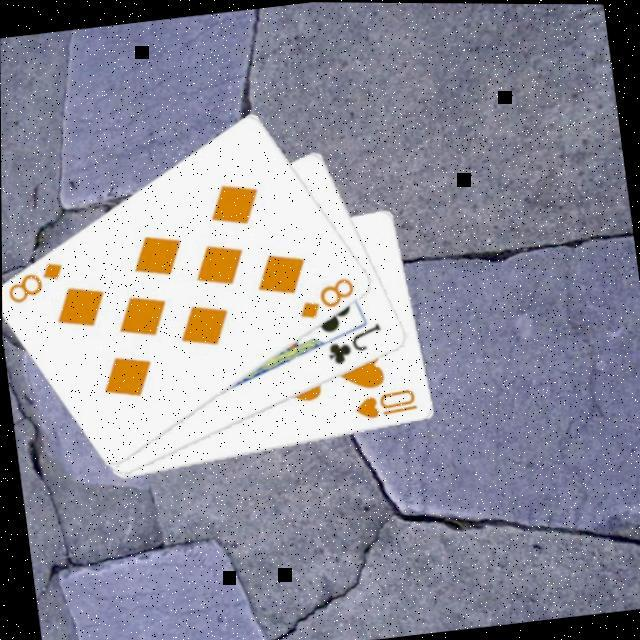10H: (348, 382, 419, 422)
8D: (290, 270, 360, 321), (1, 254, 68, 305)
JC: (320, 317, 387, 367)
